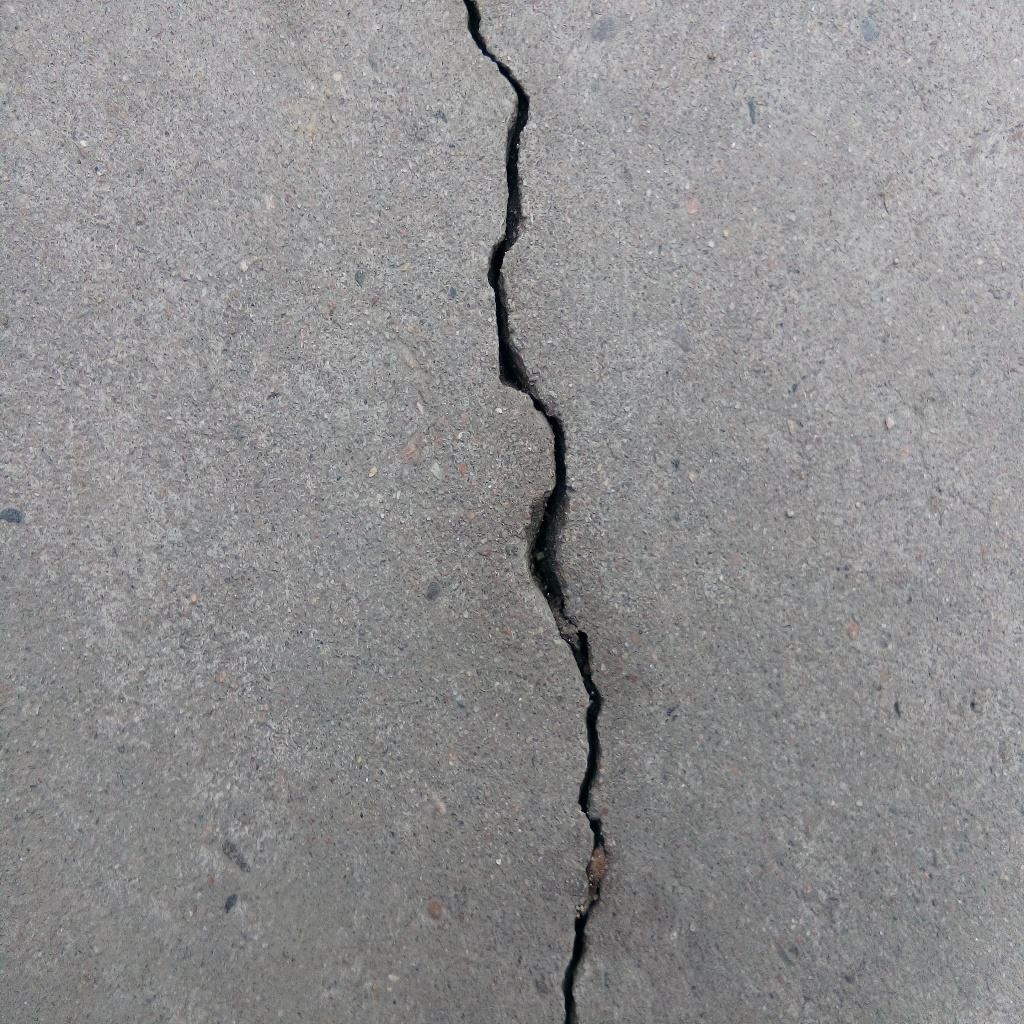Crack: (464, 1, 612, 1024)
